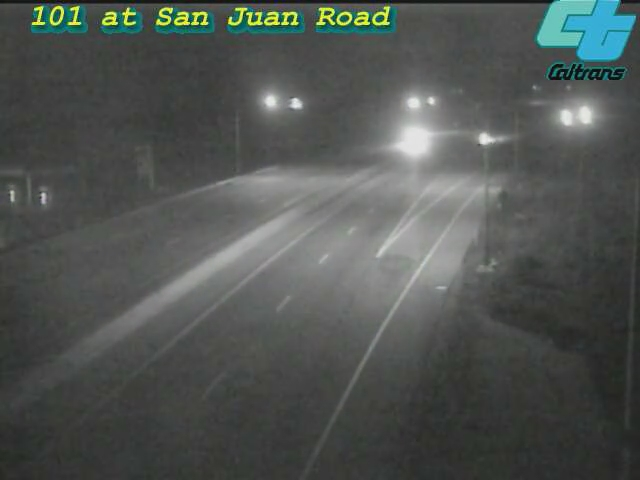vehicle: (383, 115, 433, 165), (460, 114, 510, 164), (540, 93, 590, 143), (555, 91, 605, 141)
